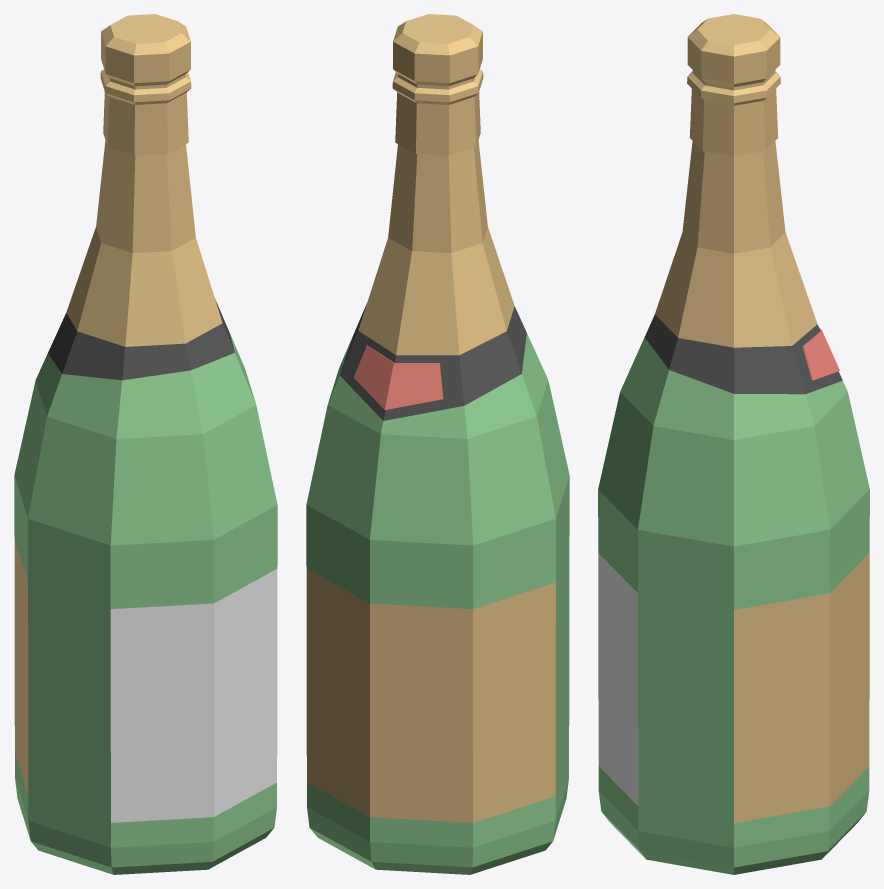
The model's file is champagne.fbx.
3 views of the same model, side by side, from view 1: azimuth 30°, elevation 25°; view 2: azimuth 150°, elevation 25°; view 3: azimuth 270°, elevation 25° (orthographic).
Visible parts, largest first — view 1: Bottle_of_Champagne_01; view 2: Bottle_of_Champagne_01; view 3: Bottle_of_Champagne_01.
Boxes of the visible parts, bbox=[...] form: Bottle_of_Champagne_01: bbox=[14, 14, 277, 874]; Bottle_of_Champagne_01: bbox=[306, 14, 569, 874]; Bottle_of_Champagne_01: bbox=[598, 14, 869, 874].
Size of the model in its own units: 48.52 by 156 by 48.52.
